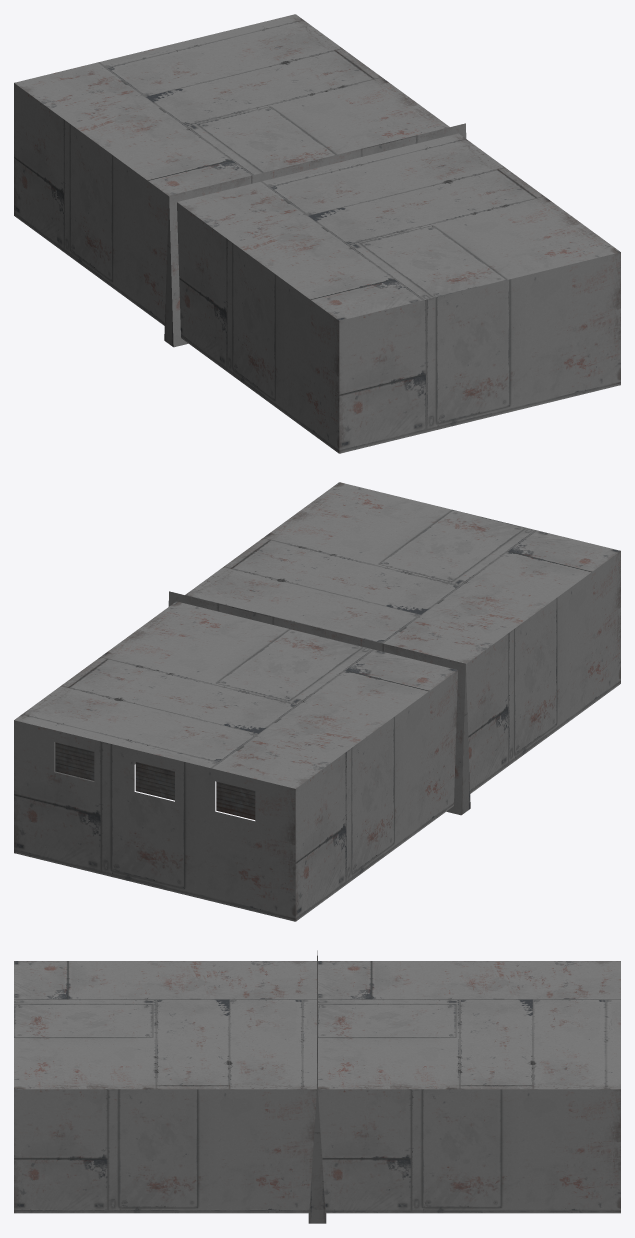
Rendered from ARC0910226.fbx.
3 views of the same model, one above another, from view 1: azimuth 30°, elevation 25°; view 2: azimuth 150°, elevation 25°; view 3: azimuth 270°, elevation 25° (orthographic). The views are drawn at different scales.
Visible parts, largest first — view 1: smARC0910226; view 2: smARC0910226; view 3: smARC0910226.
Boxes of the visible parts, bbox=[...] form: smARC0910226: bbox=[14, 14, 620, 453]; smARC0910226: bbox=[14, 482, 620, 921]; smARC0910226: bbox=[14, 950, 620, 1223].
Size of the model in its own units: 417 by 199 by 791.
1 material, 1 textured.
